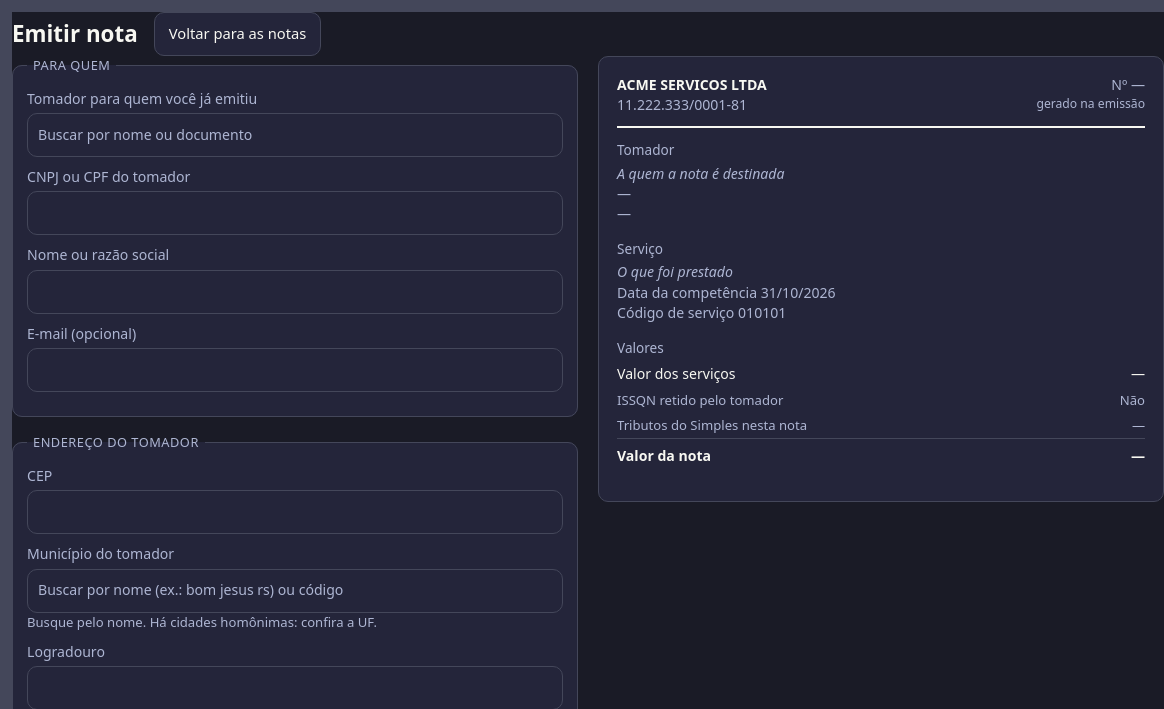
it: ⚠ ESCOLHER PREENCHE O TOMADOR INTEIRO — com a origem à vista › documento, nome, e-mail e o endereço TODO
This screenshot has width=1164, height=709.
Type "aurora" into the dropdown with id "emitir-tomador-memoria".
click(295, 135); type("aurora")  # box [27,113,563,157]
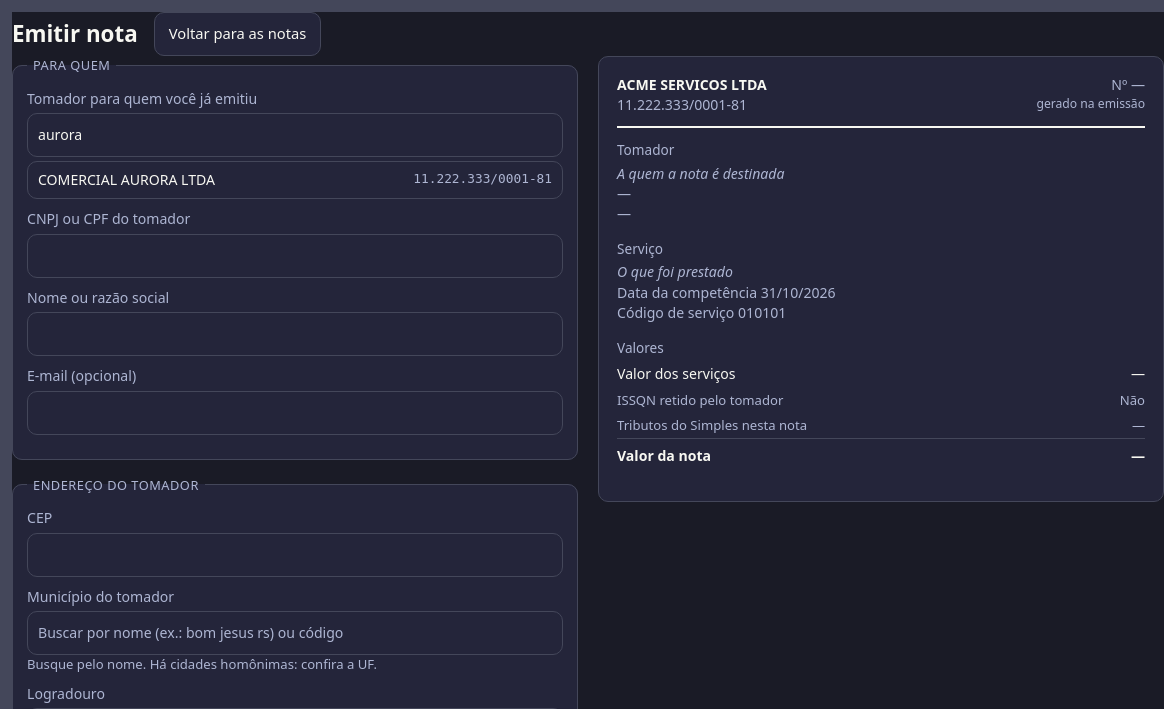
Click the option "COMERCIAL AURORA LTDA 11.222.333/0001-81".
click(127, 179)  # box [28,162,562,198]
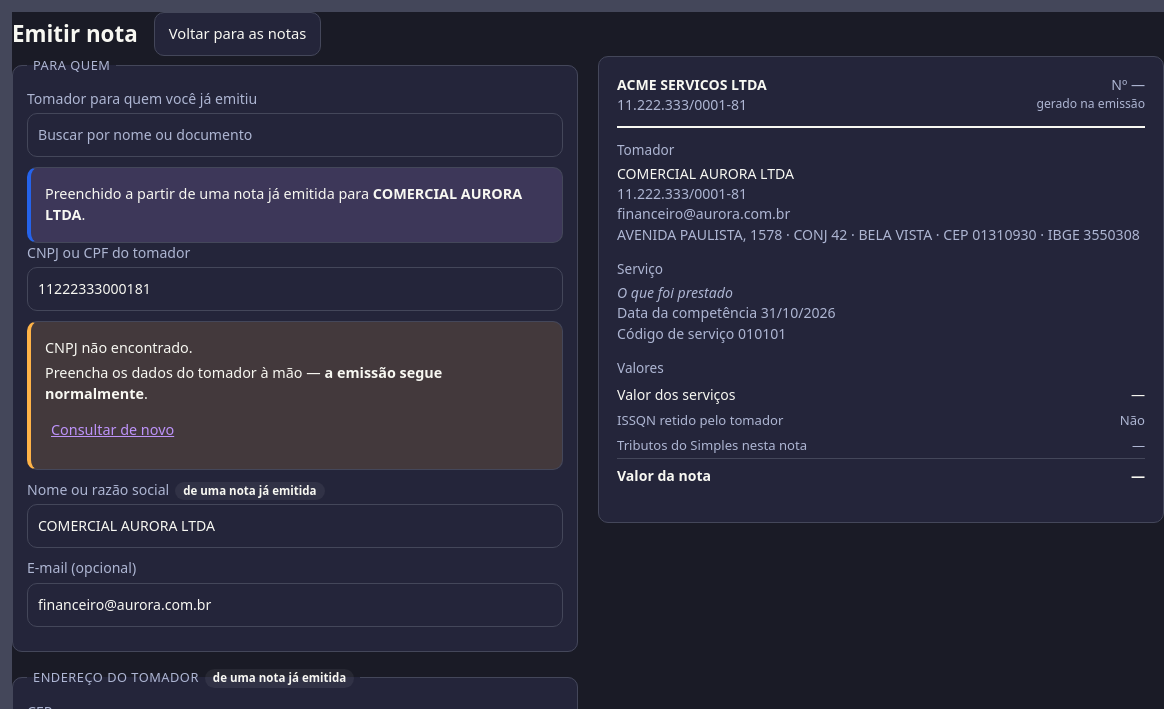
Check: the text "COMERCIAL AURORA LTDA" below "Tomador para quem você já emitiu" is shown, box [45,184,522,224]
Check: the text "financeiro@aurora.com.br" is shown, box [617,204,790,223]
